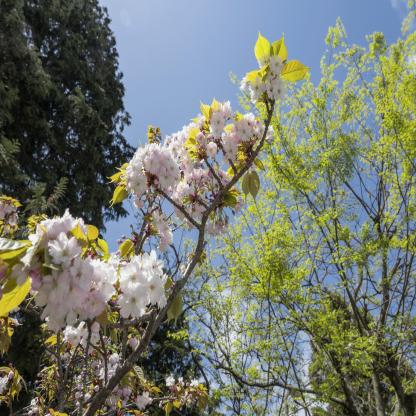YaeSakura: (1, 36, 302, 416)
